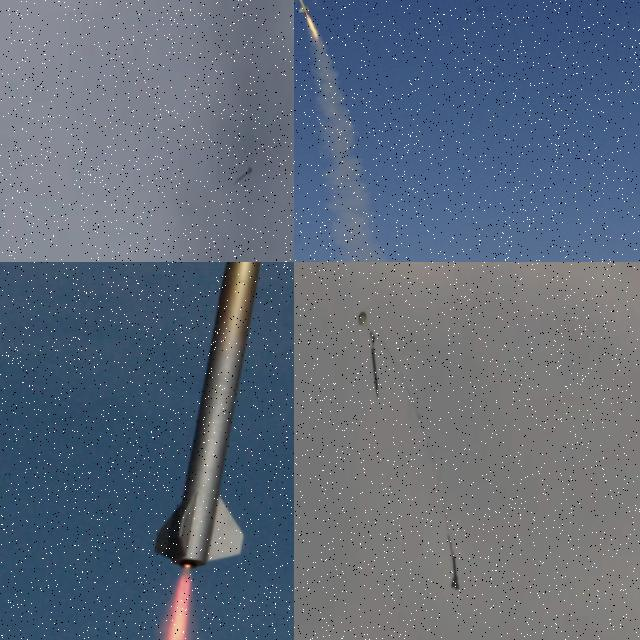Rocket: (151, 262, 266, 569), (235, 165, 252, 182), (451, 556, 459, 589)
